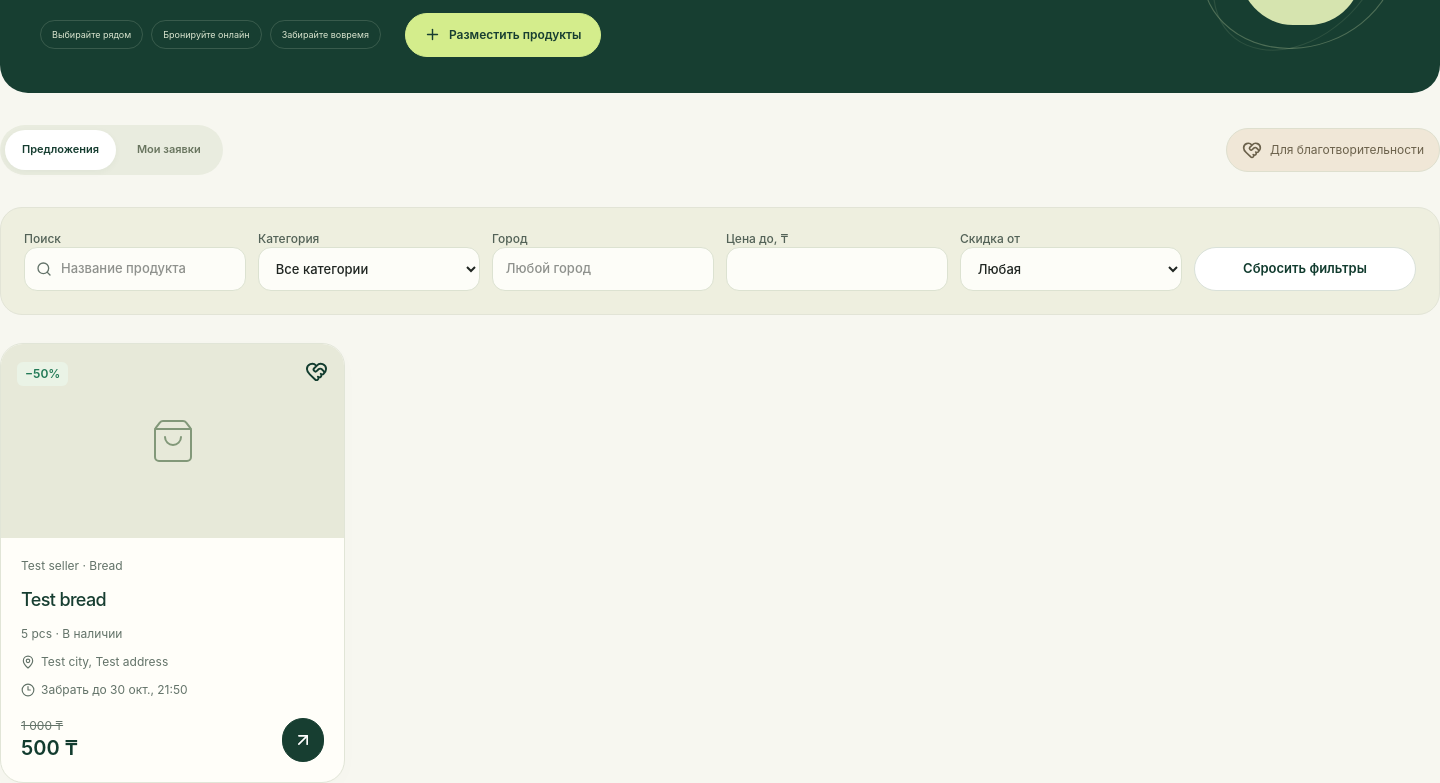
Test case: SAVE in ru › retries a reservation with the same key and translates backend errors and confirmation
(page scrolled)
Click the button named "Открыть предложение": (303, 740) [282,718,324,762]
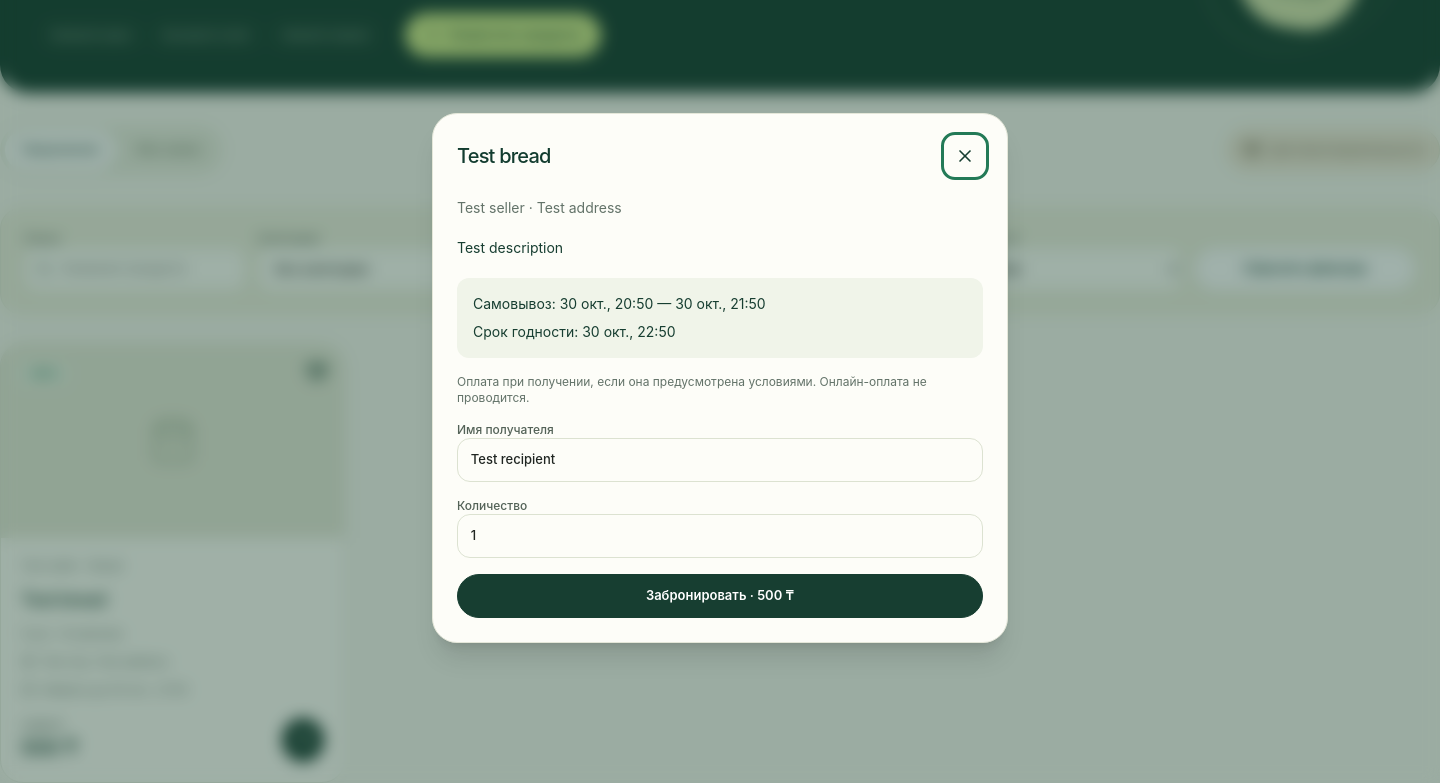
Click the button "Забронировать · 500 ₸": (720, 596) [457,574,983,618]
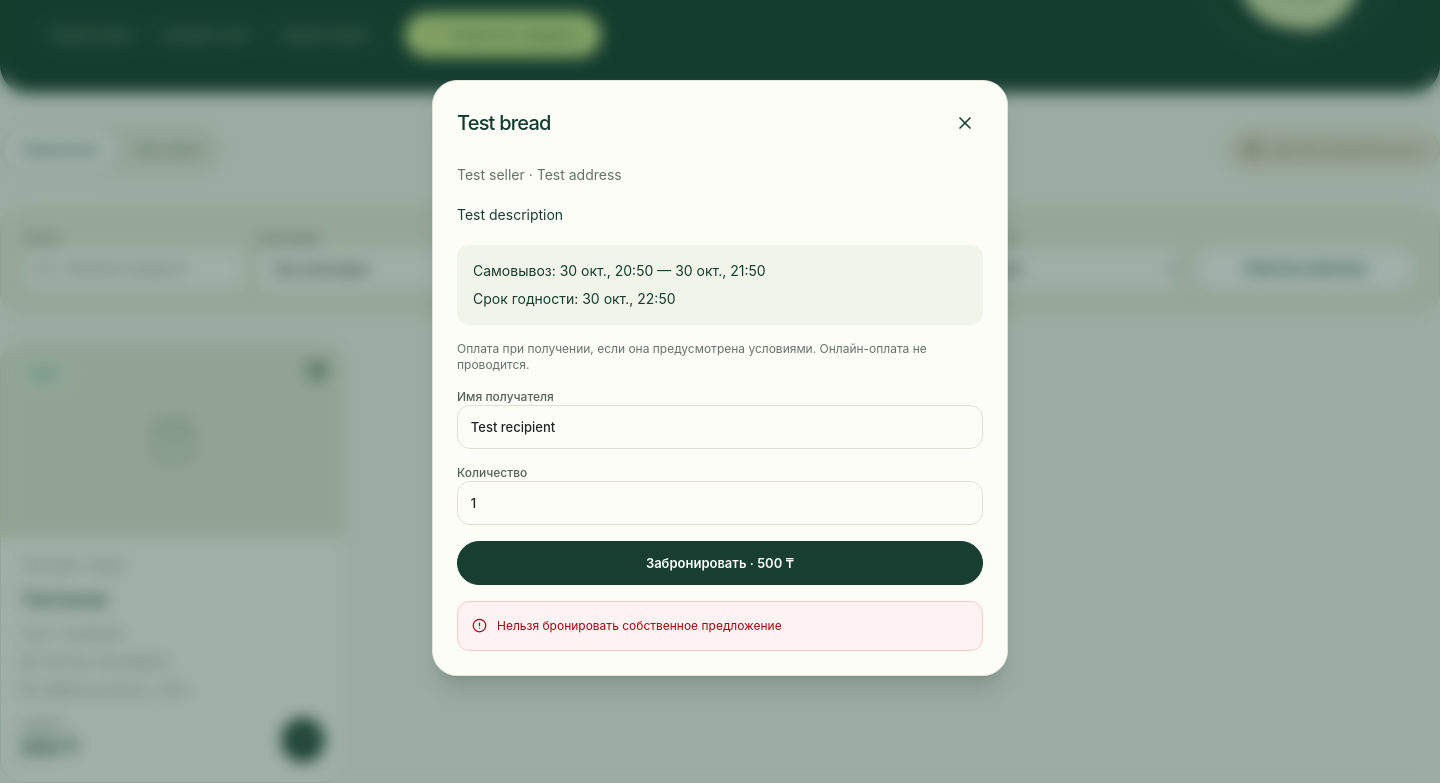
Check: the text "Нельзя бронировать собственное предложение" is shown, box [497,616,782,636]
Click the button "Забронировать · 500 ₸": (720, 563) [457,541,983,585]
(page scrolled)
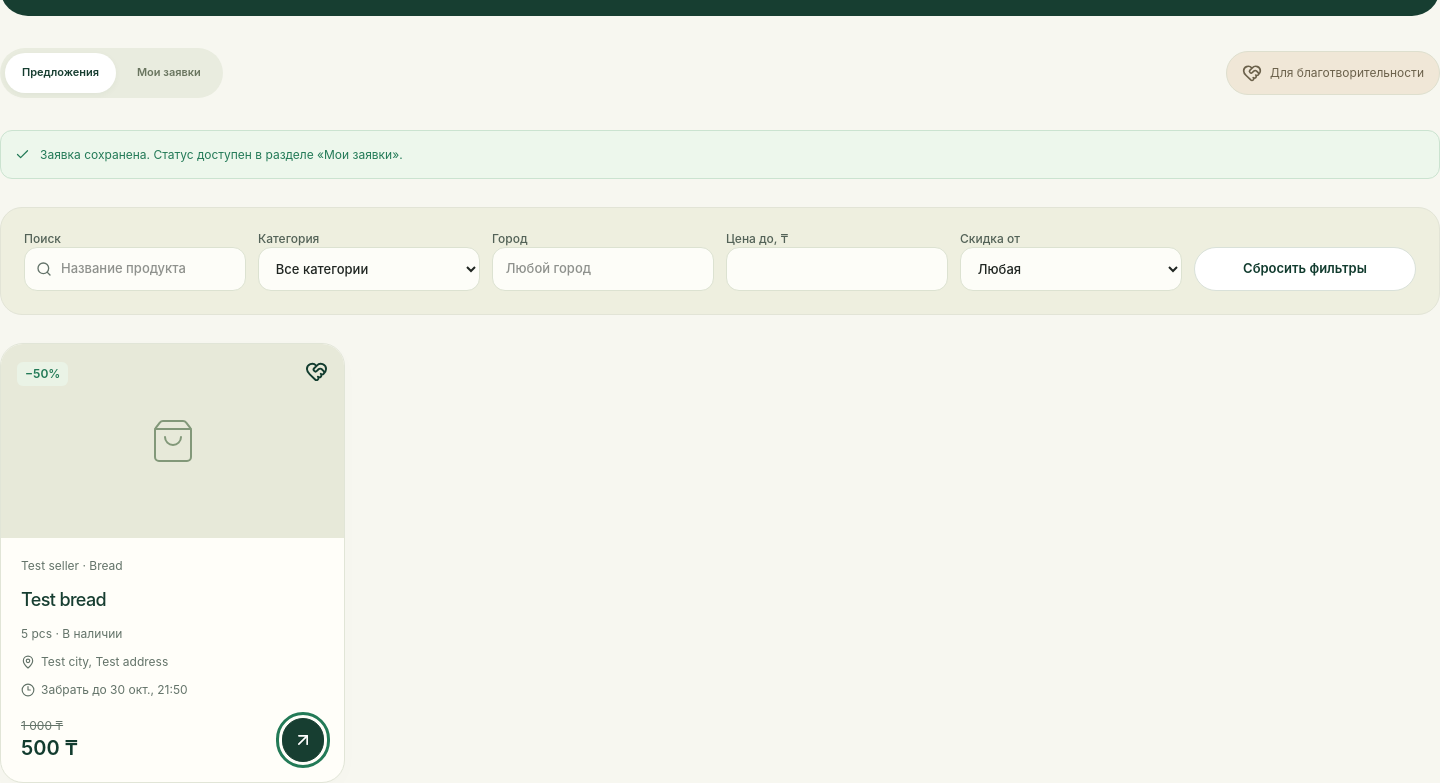
Check: the text "Заявка сохранена. Статус доступен в разделе «Мои заявки»." is shown, box [40,145,403,164]
